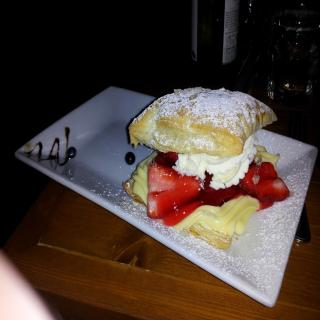Strawberry: (150, 165, 200, 218), (240, 162, 291, 203)
